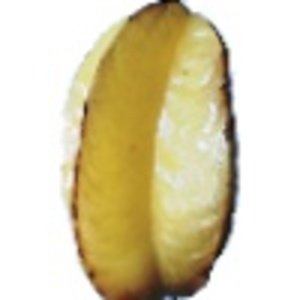carambola: (60, 1, 240, 300)
